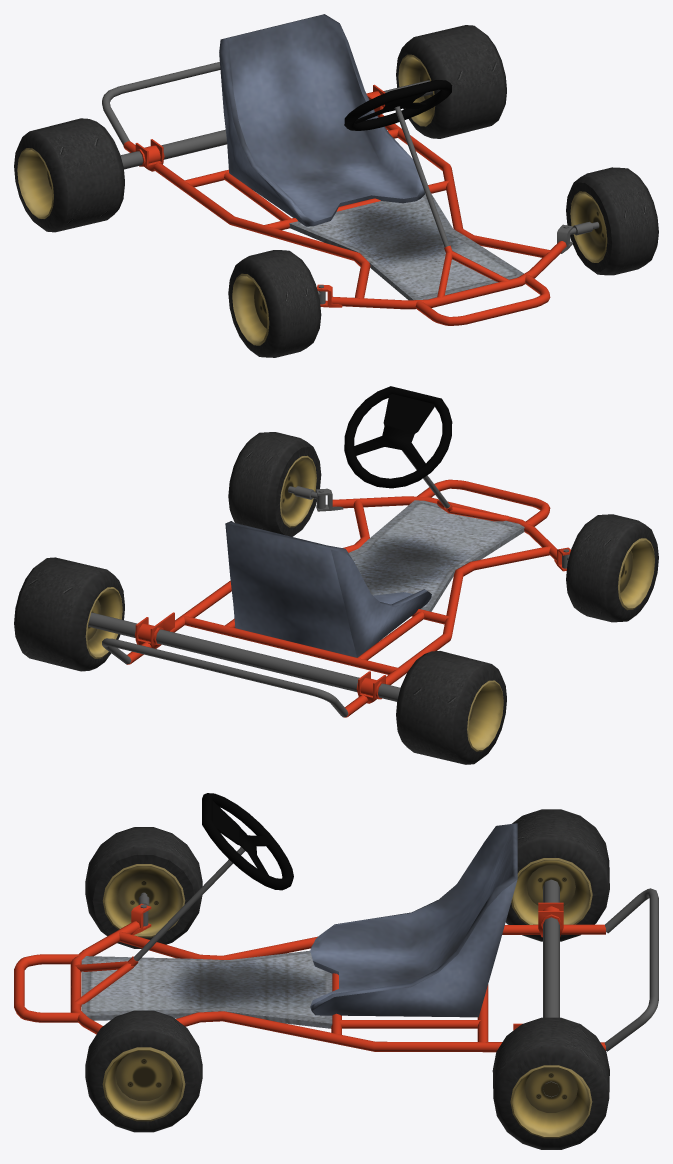
File: Kart.obj
3 views of the same model, one above another, from view 1: azimuth 30°, elevation 25°; view 2: azimuth 150°, elevation 25°; view 3: azimuth 270°, elevation 25° (orthographic). The views are drawn at different scales.
Visible parts, largest first — view 1: Chassis_Untitled, BR_Wheel_Untitled.001, BL_Wheel_Untitled.005, FR_Wheel_Untitled.002, FL_Wheel_Untitled.007, Steering_Wheel_Untitled.009, RearAxle_Untitled.008; view 2: Chassis_Untitled, BR_Wheel_Untitled.001, BL_Wheel_Untitled.005, FR_Wheel_Untitled.002, FL_Wheel_Untitled.007, Steering_Wheel_Untitled.009, RearAxle_Untitled.008; view 3: Chassis_Untitled, BL_Wheel_Untitled.005, FL_Wheel_Untitled.007, FR_Wheel_Untitled.002, BR_Wheel_Untitled.001, Steering_Wheel_Untitled.009, RearAxle_Untitled.008.
Part boxes in pixels (left/top/right/bottom): Chassis_Untitled: left=102, top=14, right=572, bottom=325; BR_Wheel_Untitled.001: left=14, top=118, right=124, bottom=232; BL_Wheel_Untitled.005: left=396, top=25, right=506, bottom=138; FR_Wheel_Untitled.002: left=228, top=250, right=321, bottom=357; FL_Wheel_Untitled.007: left=566, top=167, right=658, bottom=275; Steering_Wheel_Untitled.009: left=344, top=80, right=452, bottom=247; RearAxle_Untitled.008: left=120, top=80, right=432, bottom=169; Chassis_Untitled: left=102, top=479, right=570, bottom=717; BR_Wheel_Untitled.001: left=396, top=651, right=506, bottom=764; BL_Wheel_Untitled.005: left=14, top=557, right=124, bottom=671; FR_Wheel_Untitled.002: left=566, top=514, right=658, bottom=622; FL_Wheel_Untitled.007: left=228, top=432, right=321, bottom=536; Steering_Wheel_Untitled.009: left=344, top=386, right=452, bottom=508; RearAxle_Untitled.008: left=88, top=612, right=400, bottom=701; Chassis_Untitled: left=14, top=823, right=658, bottom=1052; BL_Wheel_Untitled.005: left=492, top=1017, right=609, bottom=1149; FL_Wheel_Untitled.007: left=85, top=1010, right=202, bottom=1132; FR_Wheel_Untitled.002: left=85, top=827, right=202, bottom=948; BR_Wheel_Untitled.001: left=506, top=809, right=609, bottom=941; Steering_Wheel_Untitled.009: left=133, top=793, right=293, bottom=961; RearAxle_Untitled.008: left=543, top=879, right=559, bottom=1097.
Size of the model in its own units: 1.84 by 0.7919 by 2.05.
